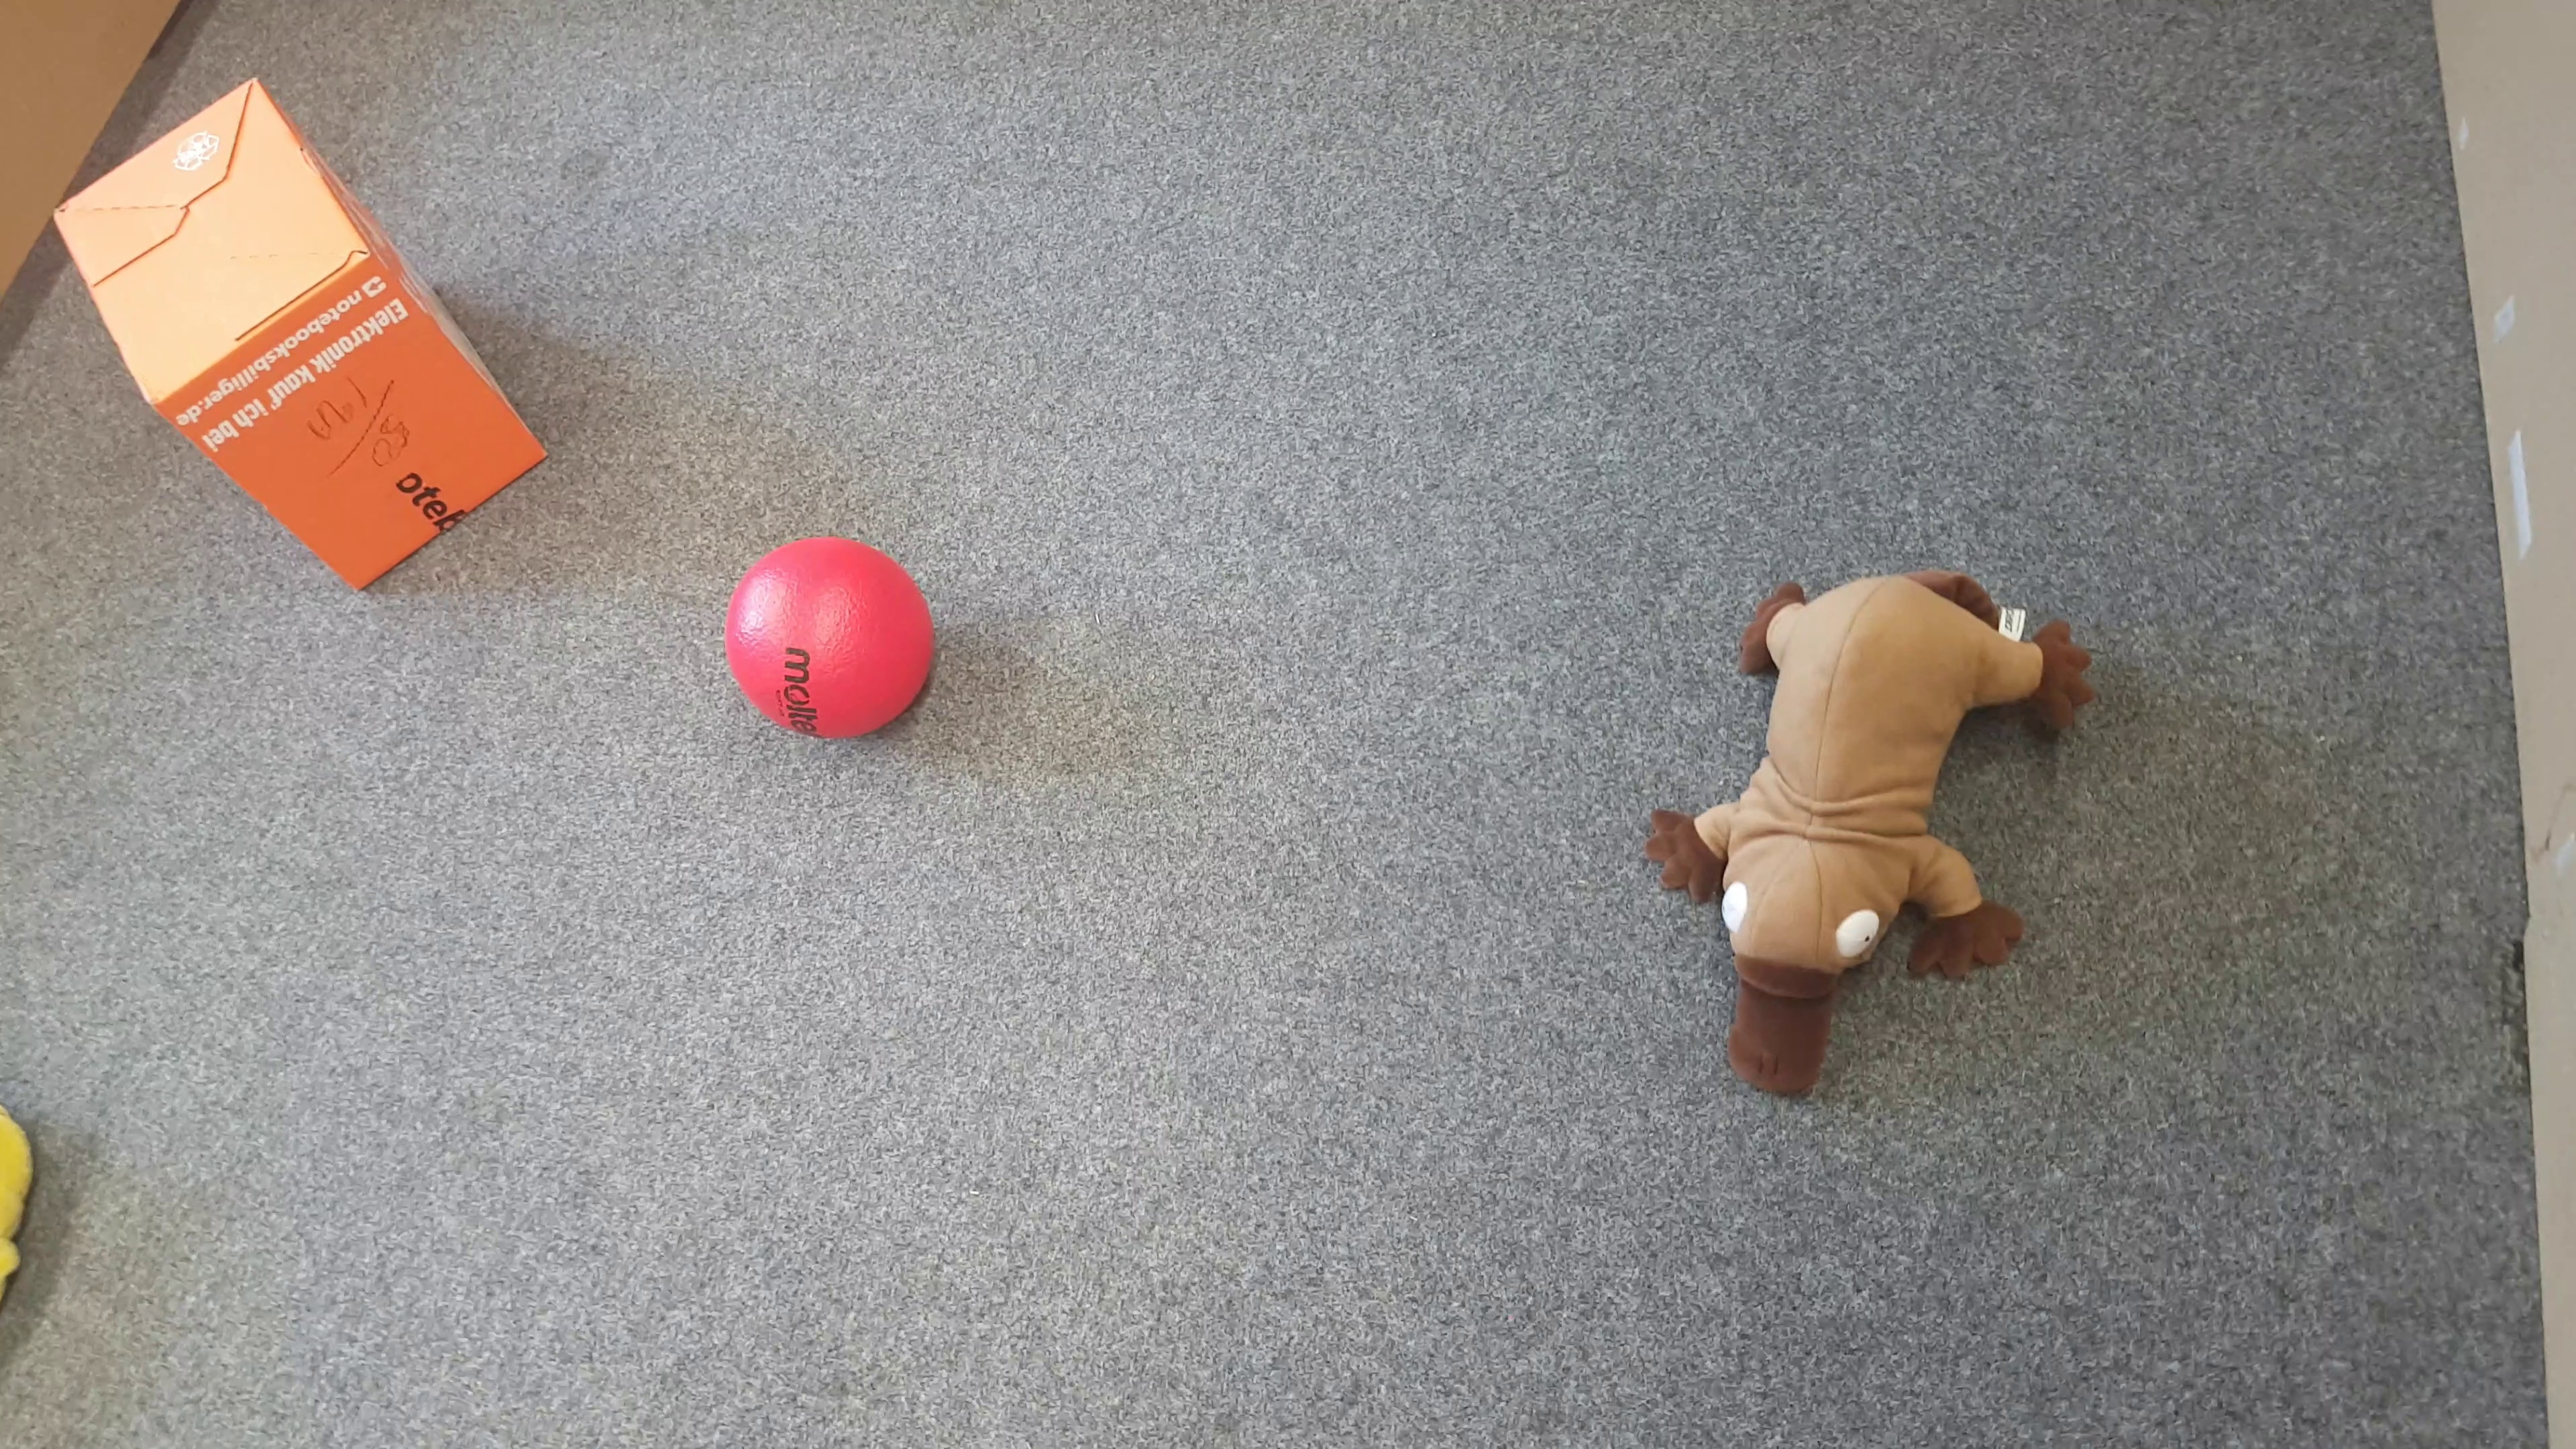grasp: (1651, 559, 2102, 1097)
kick: (729, 543, 936, 741)
push: (55, 71, 545, 600)
